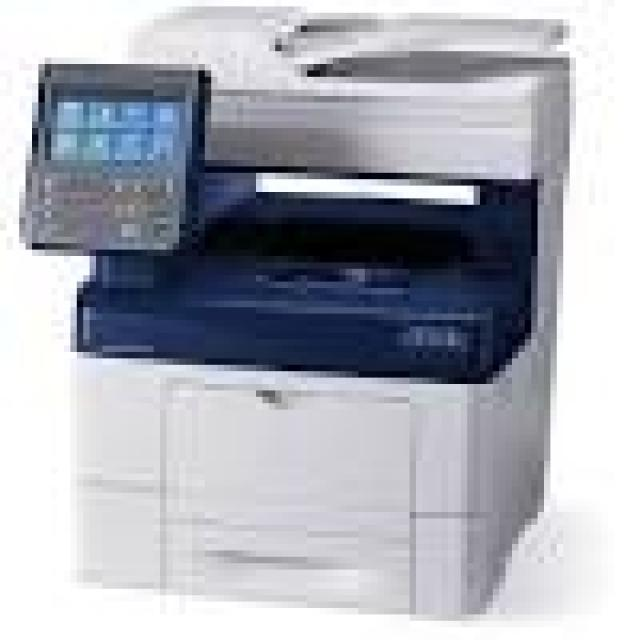printer: (14, 0, 586, 625)
